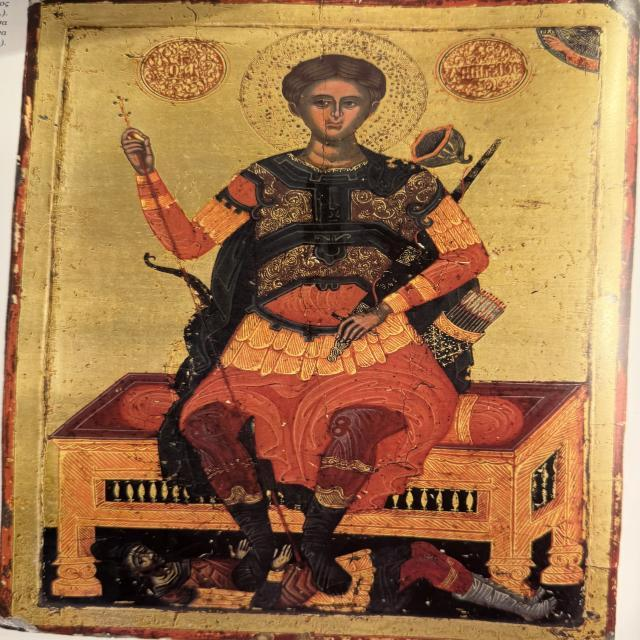aura: (244, 27, 428, 153)
saint: (104, 28, 522, 568)
sword: (324, 143, 509, 350)
